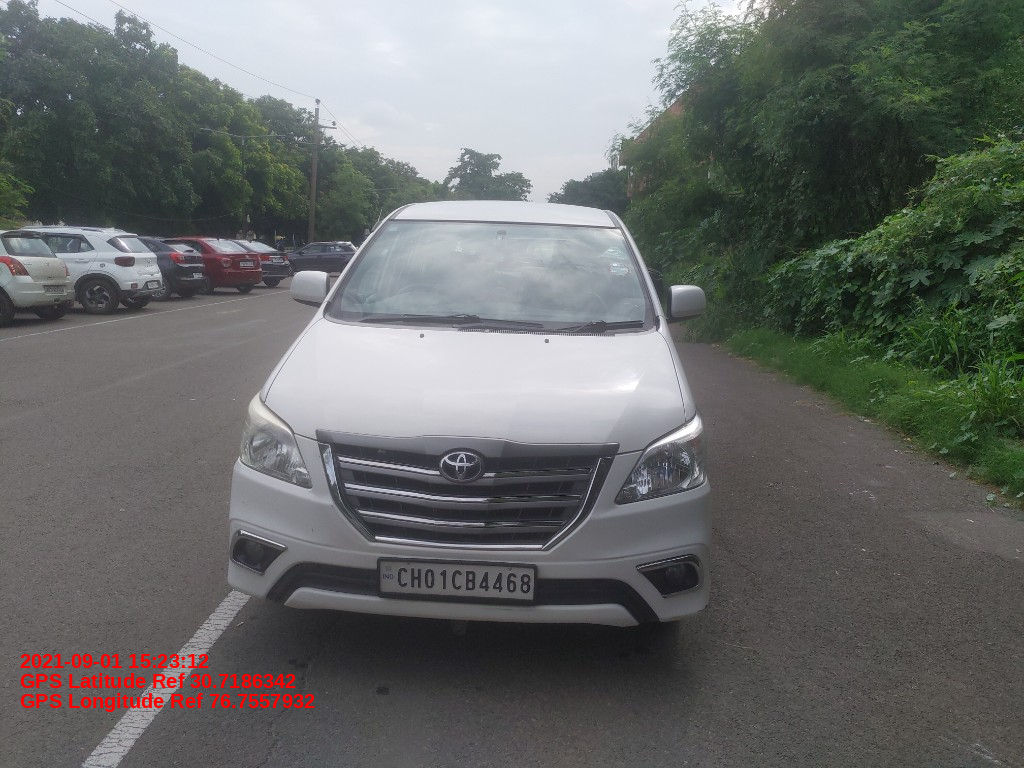Scratched: (696, 602, 712, 616), (328, 500, 338, 512), (309, 527, 318, 536)
